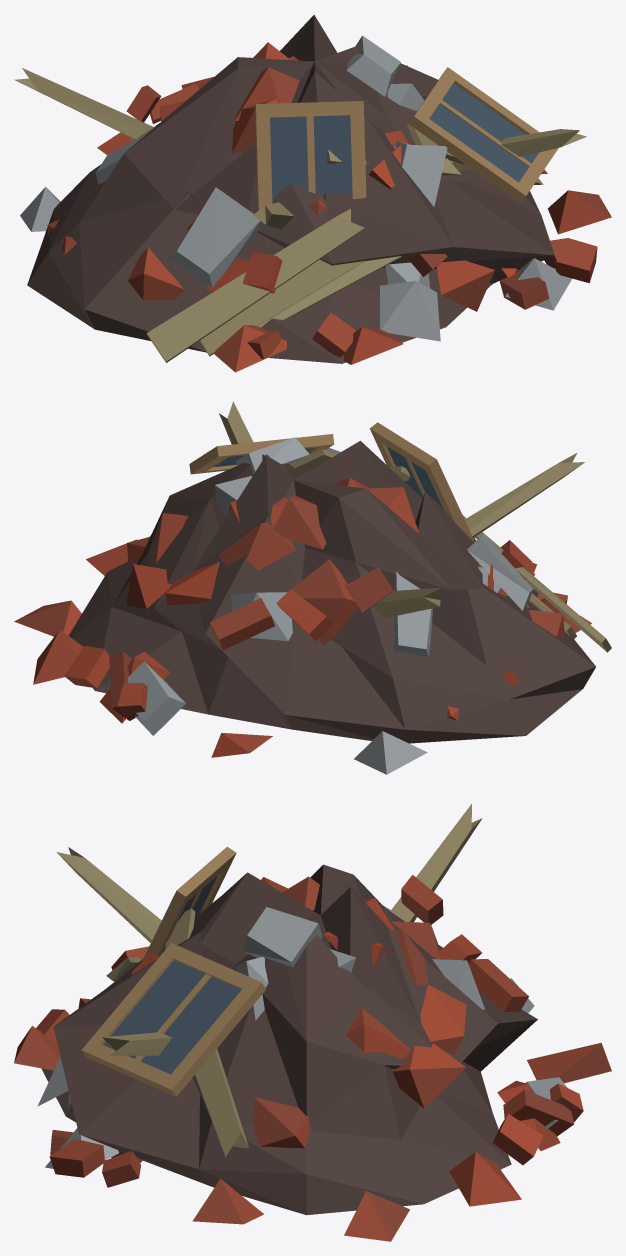
File: CollapseRubbleMound.glb
3 renders of one model, top to bottom at view 1: azimuth 30°, elevation 25°; view 2: azimuth 150°, elevation 25°; view 3: azimuth 270°, elevation 25°, orthographic. The views are drawn at different scales.
Parts seen in each view (by area): view 1: collapse-rubble-mound, window-sash; view 2: collapse-rubble-mound, window-sash; view 3: collapse-rubble-mound, window-sash.
Boxes of the visible parts, <box> form: collapse-rubble-mound: <box>14,15,611,372</box>; window-sash: <box>409,67,558,203</box>; collapse-rubble-mound: <box>14,401,611,774</box>; window-sash: <box>189,434,334,474</box>; collapse-rubble-mound: <box>14,804,611,1241</box>; window-sash: <box>81,943,265,1096</box>.
Bounding box in the file's own units: 3.06 × 1.21 × 2.84.
